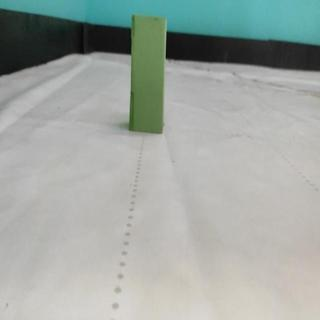greenbox: (129, 12, 168, 133)
